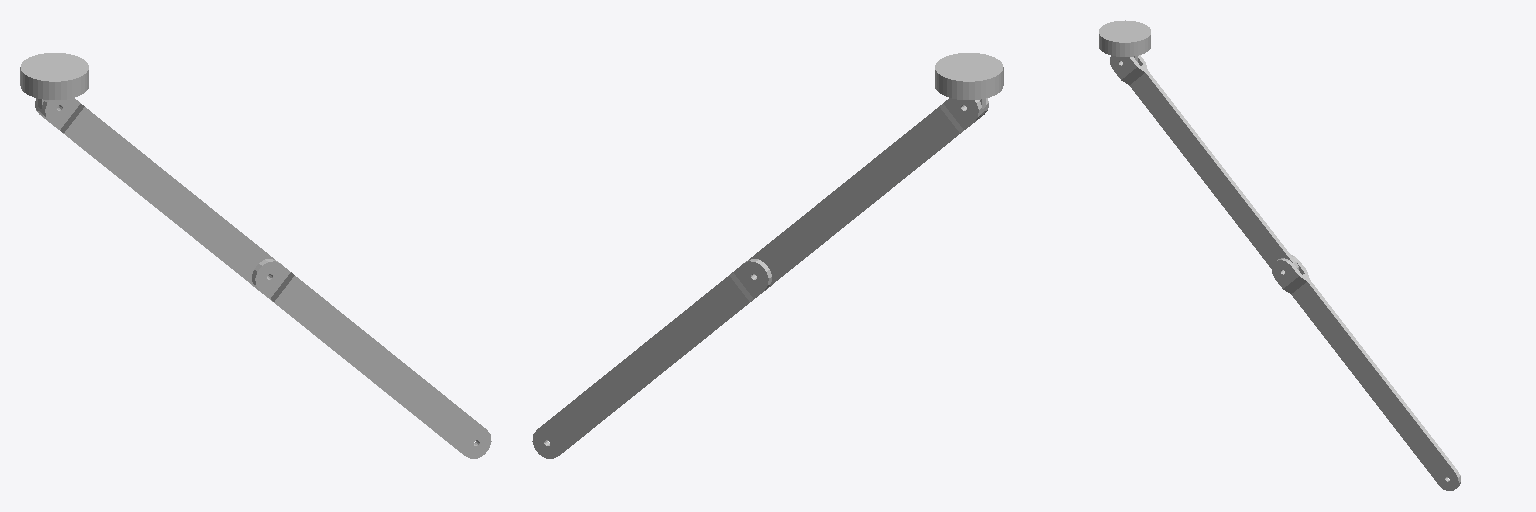
The robot description file, URDF, robot "my_robot":
<?xml version="1.0" ?>
<!--
This file is used to build your robot using the URDF file format.
-->

<robot name="my_robot" xmlns:xacro="http://www.ros.org/wiki/xacro">
    
  <link name="world" />
      
  <joint name="fixed" type="fixed">
    <origin xyz="0 0 1.25" rpy="3.14159 0 0" />
    <parent link="world" />
    <child link="base_link" />
  </joint>

    <!-- base link -->
  <link name="base_link">
    <visual>
      <origin xyz="0 0 0" rpy="0 0 0"/>
      <geometry>
        <mesh filename="package://robot_simulation/robot_description/meshes/base_link_v2.STL" scale="0.001 0.001 0.001"/>
      </geometry>
      
      <material name="grey">
        <color rgba="0.8 0.8 0.8 1"/>
      </material>
    </visual>

    <collision>
      <origin xyz="0 0 0" rpy="0 0 0"/>
      <geometry>
        <mesh filename="package://robot_simulation/robot_description/meshes/base_link_v2.STL" scale="0.001 0.001 0.001"/>
      </geometry>
    </collision>

    <inertial>
      <mass value="1"/>
      <origin xyz="0 0 0" rpy="0 0 0"/>
      <inertia ixx="0.02" ixy="0.0" ixz="0.0" iyy="0.02" iyz="0.0" izz="0.01"/>
    </inertial>    
  </link>

  <joint name="base_to_first_joint" type="continuous">
    <origin xyz="0 0 0.06" rpy="0 0.785 0" />
    <axis xyz="0 1 0" />
    <limit effort="1.0" velocity="30.0" />
    <parent link="base_link" />
    <child link="first_link" />
    <dynamics damping="0.001" friction="0.0" />
  </joint>

    <!-- 1st link -->
  <link name="first_link">
    <visual>
      <origin xyz="0 0 0.250" rpy="0 3.14159 0"/>
      <geometry>
        <mesh filename="package://robot_simulation/robot_description/meshes/link.STL" scale="0.001 0.001 0.001"/>
      </geometry>
      
      <material name="grey">
        <color rgba="0.8 0.8 0.8 1"/>
      </material>
    </visual>

    <collision>
      <origin xyz="0 0 0.250" rpy="0 3.14159 0"/>
      <geometry>
        <mesh filename="package://robot_simulation/robot_description/meshes/link.STL" scale="0.001 0.001 0.001"/>
      </geometry>
    </collision>

    <inertial>
      <mass value="0.15156" />
      <origin xyz="0 0 0.25" rpy="0 0 0" />
      <inertia ixx="0.00415" ixy="0.0" ixz="0.0" iyy="0.00415" iyz="0.0" izz="0.000035" />
    </inertial>    
  </link>

  <joint name="first_to_second_joint" type="continuous">
  <axis xyz="0 1 0" />
    <origin xyz="0 0 0.5" rpy="0 0 0" />
    <parent link="first_link" />
    <child link="second_link" />
    <limit effort="1.0" velocity="30.0" />
    <dynamics damping="0.001" friction="0.0" />
  </joint>

    <!-- 2nd link -->
  <link name="second_link">
    <visual>
      <origin xyz="0 0 0.250" rpy="0 3.14159 0"/>
      <geometry>
        <mesh filename="package://robot_simulation/robot_description/meshes/link.STL" scale="0.001 0.001 0.001"/>
      </geometry>
      
      <material name="grey">
        <color rgba="0.8 0.8 0.8 1"/>
      </material>
    </visual>

    <collision>
      <origin xyz="0 0 0.250" rpy="0 3.14159 0"/>
      <geometry>
        <mesh filename="package://robot_simulation/robot_description/meshes/link.STL" scale="0.001 0.001 0.001"/>
      </geometry>
    </collision>

    <inertial>
      <mass value="0.15156" />
      <origin xyz="0 0 0.25" rpy="0 0 0" />
      <inertia ixx="0.00415" ixy="0.0" ixz="0.0" iyy="0.00415" iyz="0.0" izz="0.000035" />
    </inertial>    
  </link>


  <!-- Need For Gazebo Integration -->
  <gazebo>
    <plugin name="gazebo_ros_control" filename="libgazebo_ros_control.so">
      <robotNamespace>/simple_model</robotNamespace>
    </plugin>
  </gazebo>

  <!-- Base to first link gear box-->
  <transmission name="base_to_first_trans">
    <type>transmission_interface/SimpleTransmission</type>
    <actuator name="motor_1">
      <mechanicalReduction>5</mechanicalReduction>
    </actuator>
    <joint name="base_to_first_joint">
      <hardwareInterface>hardware_interface/EffortJointInterface</hardwareInterface>
    </joint>
  </transmission>

    <!-- First to second link gear box-->
  <transmission name="first_to_second_trans">
    <type>transmission_interface/SimpleTransmission</type>
    <actuator name="motor_2">
      <mechanicalReduction>5</mechanicalReduction>
    </actuator>
    <joint name="first_to_second_joint">
      <hardwareInterface>hardware_interface/EffortJointInterface</hardwareInterface>
    </joint>
  </transmission>

</robot>

--- Render facts (derived) ---
Views: 3 orthographic renders of the robot side by side, from view 1: azimuth 30°, elevation 25°; view 2: azimuth 150°, elevation 25°; view 3: azimuth 330°, elevation 25°.
Robot: my_robot — 4 links, 3 joints (2 continuous, 1 fixed); root link world; default pose: every joint at zero.
Visible links, largest first — view 1: second_link, first_link, base_link; view 2: second_link, first_link, base_link; view 3: second_link, first_link, base_link.
Boxes of the visible links, <box> form: second_link: <box>252,259,491,458</box>; first_link: <box>35,98,274,287</box>; base_link: <box>20,53,88,117</box>; second_link: <box>532,259,771,458</box>; first_link: <box>749,98,988,287</box>; base_link: <box>935,53,1003,117</box>; second_link: <box>1272,255,1460,490</box>; first_link: <box>1110,55,1298,271</box>; base_link: <box>1099,20,1150,62</box>.
Size in the robot's own frame: 0.7817 by 0.1 by 0.7922 metres.
Meshes: 2 distinct files referenced, 3 mesh visuals loaded (2 binary STL).